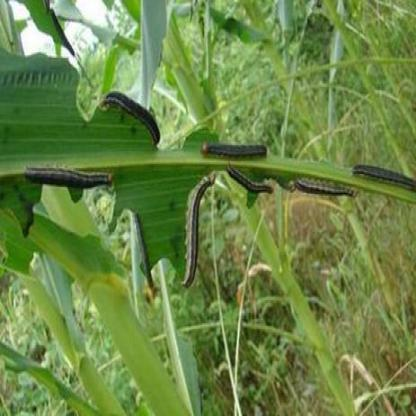armyworm: (181, 173, 218, 291), (24, 156, 115, 197), (102, 85, 165, 144), (198, 128, 270, 165), (353, 156, 416, 193), (131, 212, 158, 298), (294, 175, 360, 205), (226, 160, 274, 196)
